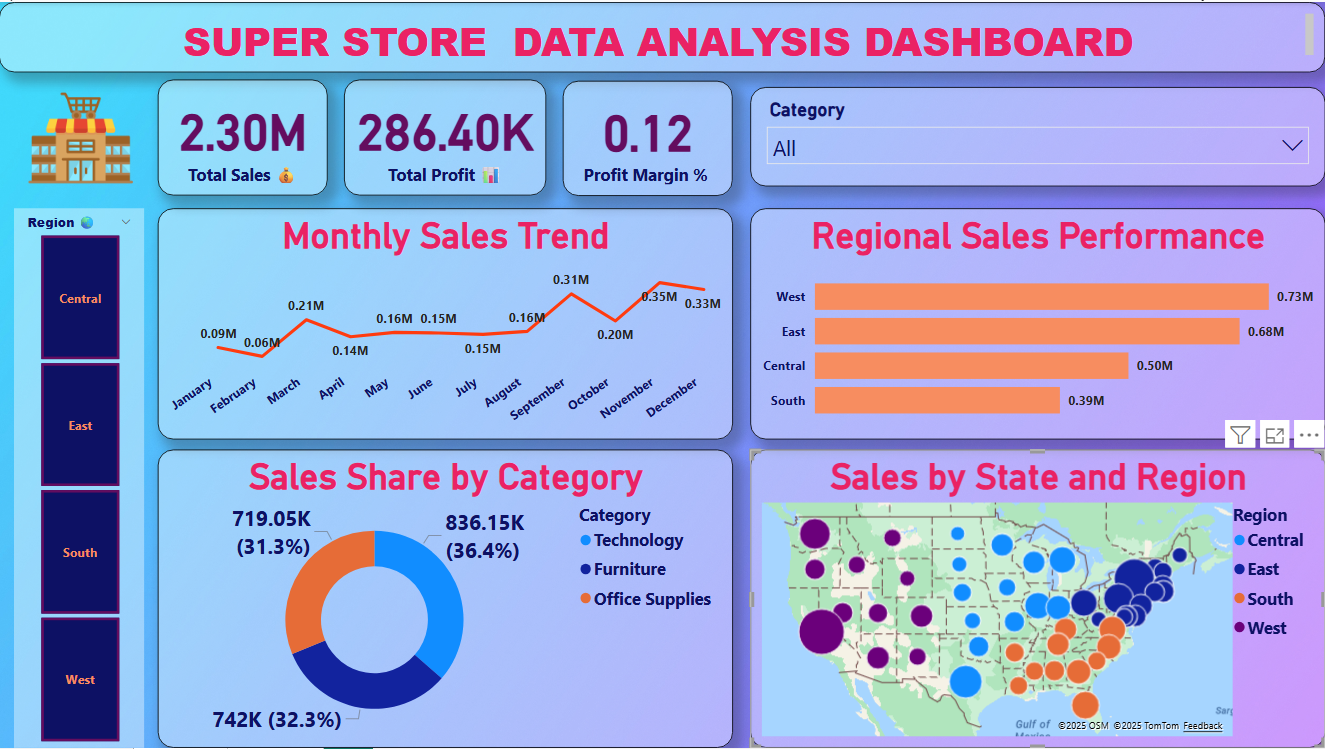

What the dashboard file says about the page in this screenshot:
{"tool":"powerbi","page":{"name":"Page 1","canvas":[1280,720],"ordinal":0},"visuals":[{"type":"lineChart","title":"Monthly Sales Trend","fields":{"Y":["Sum(Orders.Sales)"],"Category":["Orders.Order Date.Variation.Date Hierarchy.Month"]},"box":[152.9,198.9,554.9,223.3],"z":0},{"type":"clusteredBarChart","title":"Regional Sales Performance","fields":{"Category":["Orders.Region"],"Y":["Sum(Orders.Sales)"]},"box":[725.4,198.9,554.9,223.3],"z":1000},{"type":"textbox","box":[0,0,1280.3,67.7],"z":2000},{"type":"donutChart","title":"Sales Share by Category","fields":{"Y":["Sum(Orders.Sales)"],"Category":["Orders.Category"]},"box":[152.9,431.7,554.9,288.3],"z":3000},{"type":"card","fields":{"Values":["Sum(Orders.Sales)"]},"box":[152.9,74.4,163.8,112.3],"z":4000},{"type":"card","fields":{"Values":["Sum(Orders.Profit)"]},"box":[332.9,74.4,194.9,112.3],"z":5000},{"type":"card","fields":{"Values":["Orders.Profit Margin %"]},"box":[544,75.8,163.8,111],"z":6000},{"type":"slicer","fields":{"Values":["Orders.Region"]},"box":[14.9,198.9,125.9,521],"z":7000},{"type":"image","box":[16.2,75.8,125.9,111],"z":8000},{"type":"azureMap","title":"Sales by State and Region","fields":{"Size":["Sum(Orders.Sales)"],"Category":["Orders.State"],"Series":["Orders.Region"]},"box":[725.4,431.7,554.9,288.3],"z":9000},{"type":"slicer","fields":{"Values":["Orders.Category"]},"box":[725.4,82.6,554.9,96.1],"z":9001}]}

Visuals, with their boxes in screenshot pixels (x1, y1, x2, y2), scaled from the page's 1280x720 canvas onto the 1325x749 screenshot:
"Monthly Sales Trend" lineChart: {"left": 158, "top": 207, "right": 733, "bottom": 439}
"Regional Sales Performance" clusteredBarChart: {"left": 751, "top": 207, "right": 1324, "bottom": 439}
textbox: {"left": 0, "top": 0, "right": 1324, "bottom": 70}
"Sales Share by Category" donutChart: {"left": 158, "top": 449, "right": 733, "bottom": 748}
card - Sum(Orders.Sales): {"left": 158, "top": 77, "right": 328, "bottom": 194}
card - Sum(Orders.Profit): {"left": 345, "top": 77, "right": 546, "bottom": 194}
card - Orders.Profit Margin %: {"left": 563, "top": 79, "right": 733, "bottom": 194}
slicer - Orders.Region: {"left": 15, "top": 207, "right": 146, "bottom": 748}
image: {"left": 17, "top": 79, "right": 147, "bottom": 194}
"Sales by State and Region" azureMap: {"left": 751, "top": 449, "right": 1324, "bottom": 748}
slicer - Orders.Category: {"left": 751, "top": 86, "right": 1324, "bottom": 186}
